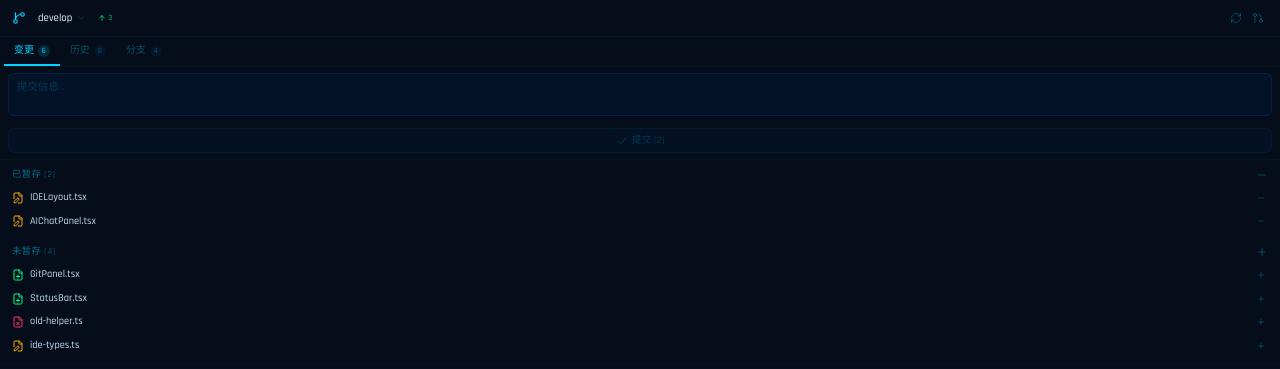
Test: GitPanel › 暂存切换: unstageAll（− 按钮）→ staged 清零; ChangeItem 点击切换单项
Step 1. Click the button without text in the row of "已暂存" → point(1262, 175), box [1256,169,1268,181]
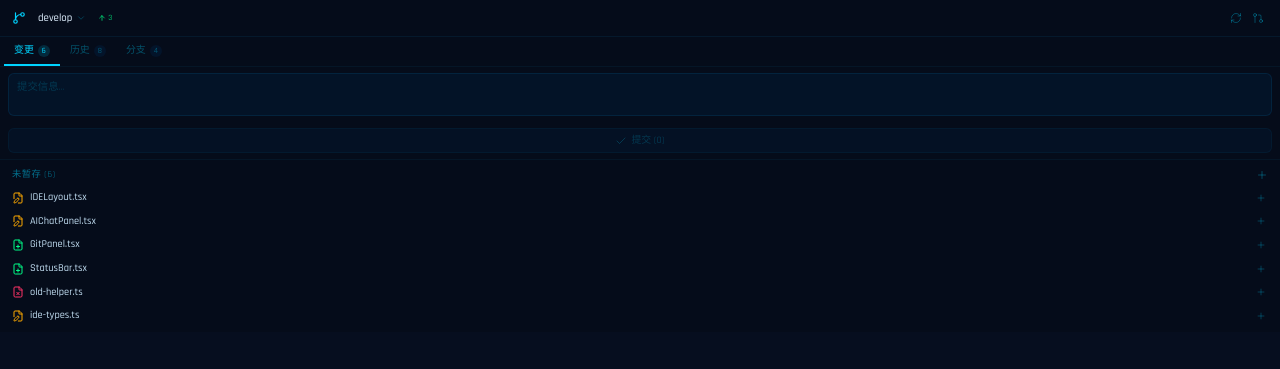
Now the text "已暂存 (2)" is gone
Now the text "未暂存 (6)" is shown, box [12,168,56,182]
// 点击第一条未暂存变更（ChangeItem）→ 重新暂存 1 项
Step 2. Click the button "IDELayout.tsx" → point(58, 197), box [4,186,1276,210]
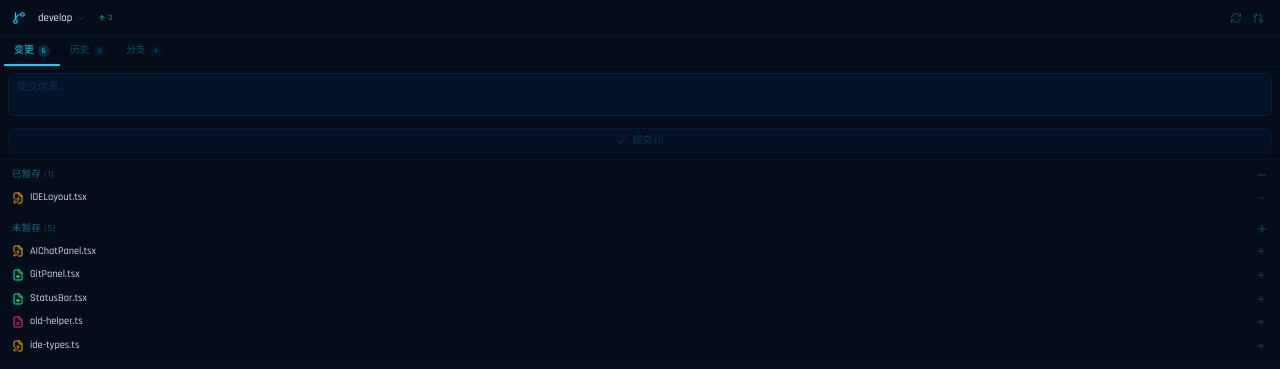
Now the text "已暂存 (1)" is shown, box [12,168,54,182]
